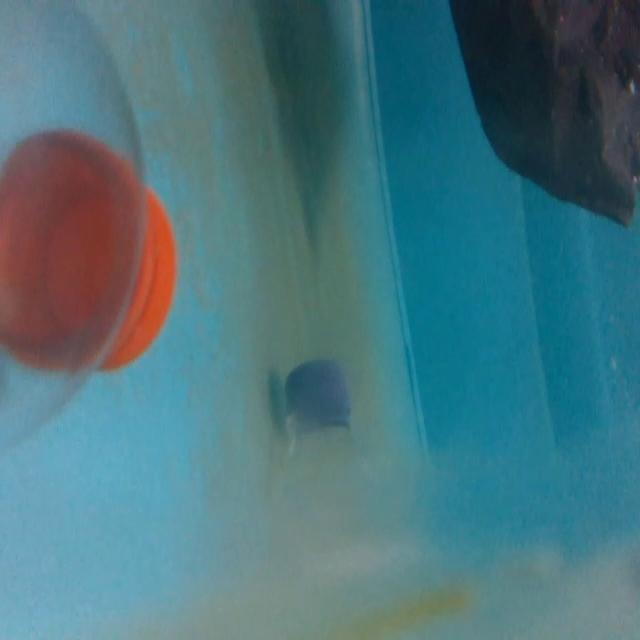plastic bags: (444, 3, 640, 225)
